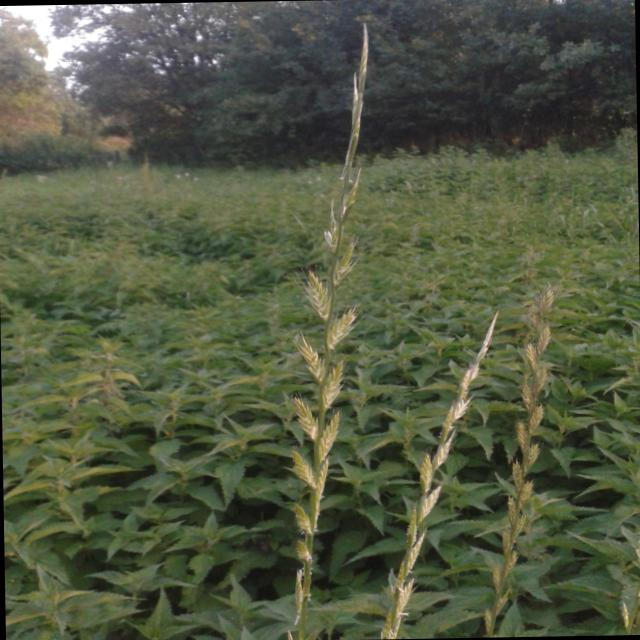Lolium: (273, 20, 385, 638), (356, 312, 510, 640), (458, 274, 570, 638)
